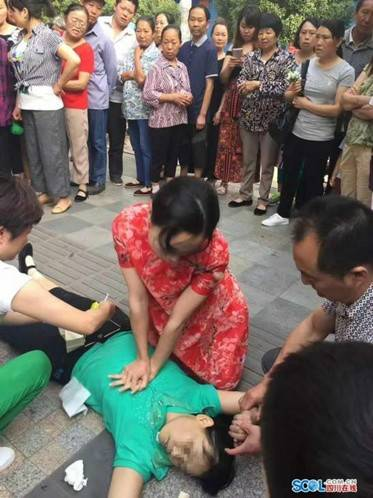10+: (1, 1, 373, 488)
down: (4, 240, 265, 498)
